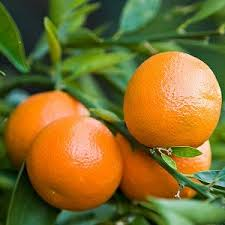orange: (123, 48, 221, 148), (29, 113, 122, 210), (113, 117, 212, 204), (1, 83, 93, 168)
